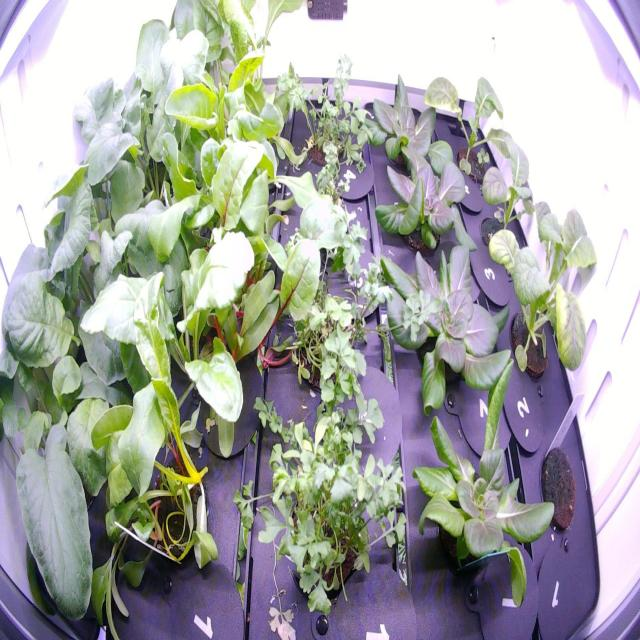pod: (531, 436, 583, 540)
young: (399, 350, 564, 618), (367, 226, 524, 425), (366, 137, 488, 264), (352, 64, 462, 187)
